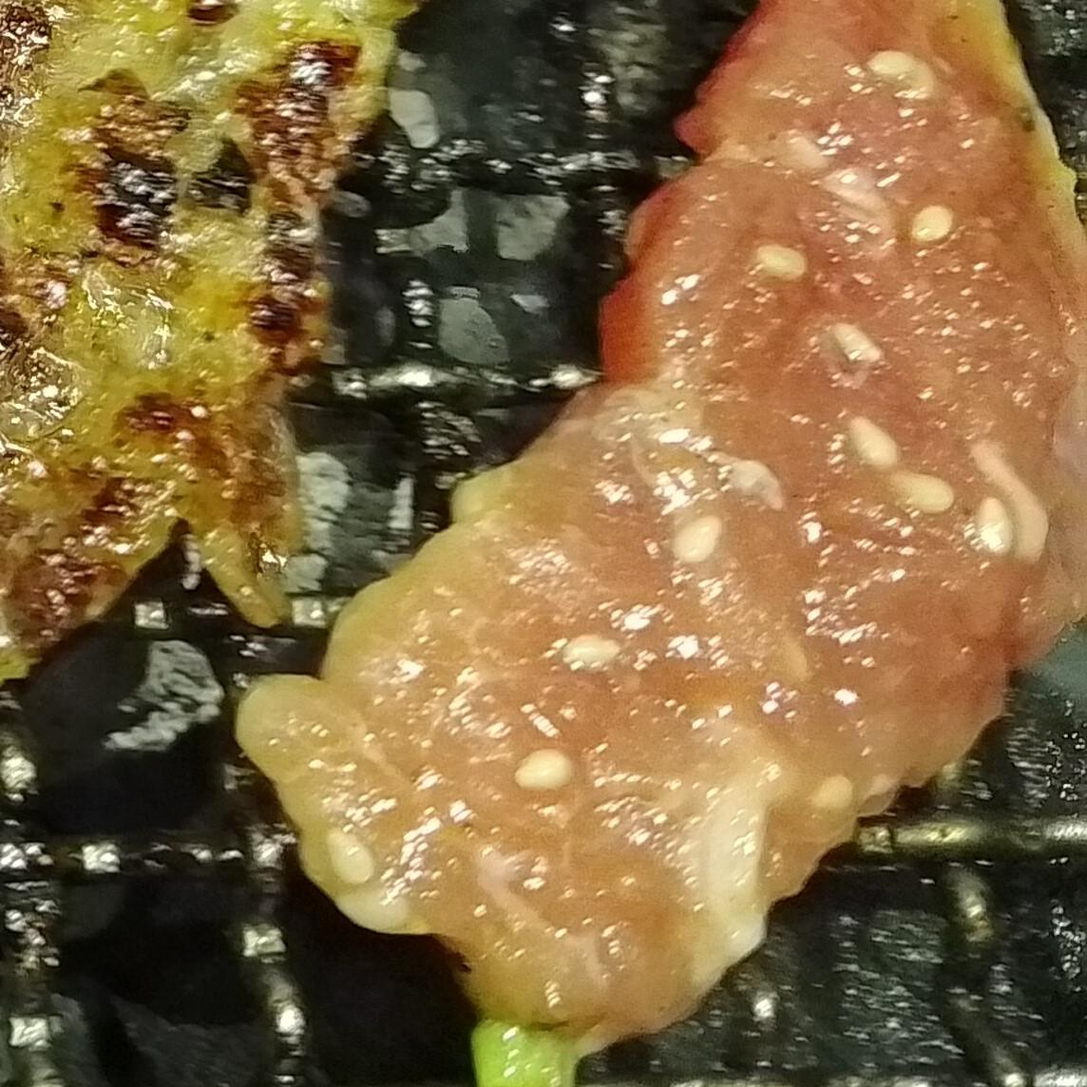Overcooked: (0, 0, 419, 696)
Undercooked: (231, 0, 1086, 1086)
